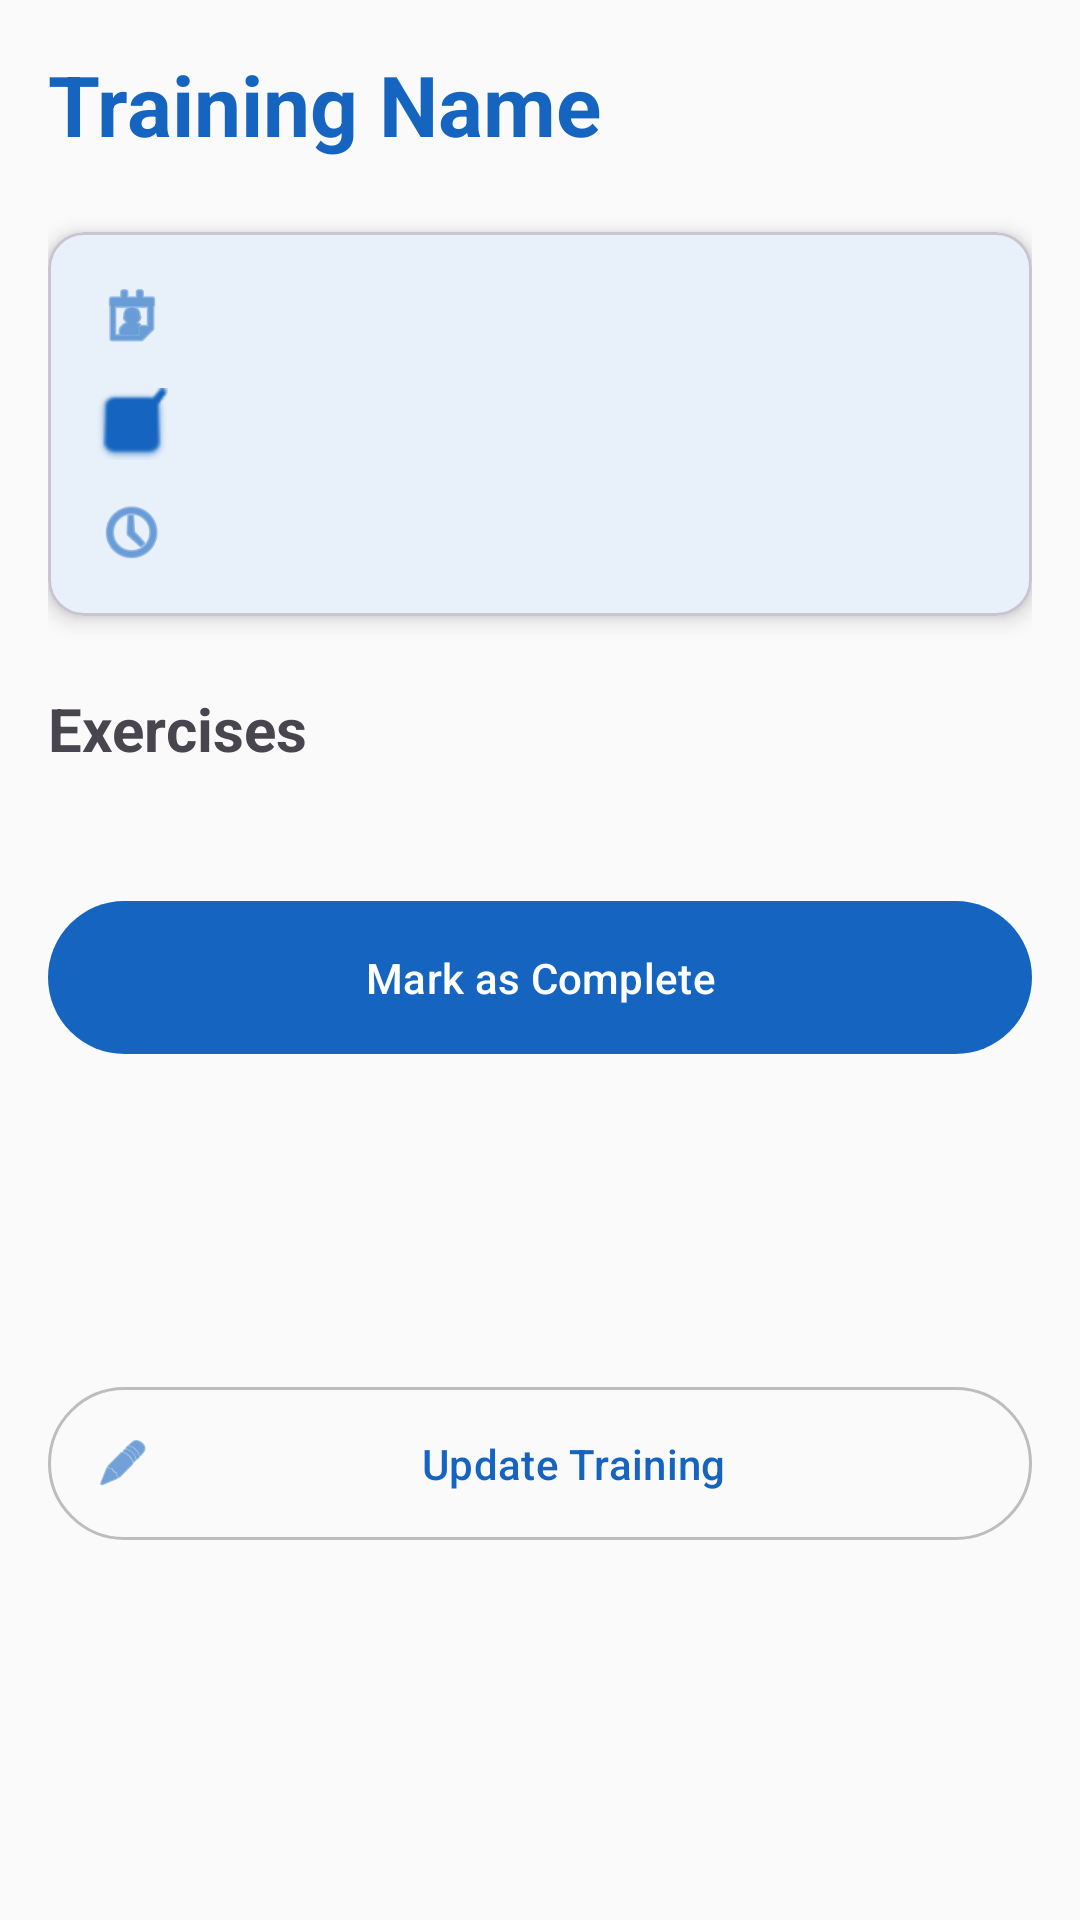

Named icons in this screenshot (1080x1920) and their centers, (x=x, y=y):
calendar: (x=132, y=315)
recent history: (x=132, y=532)
